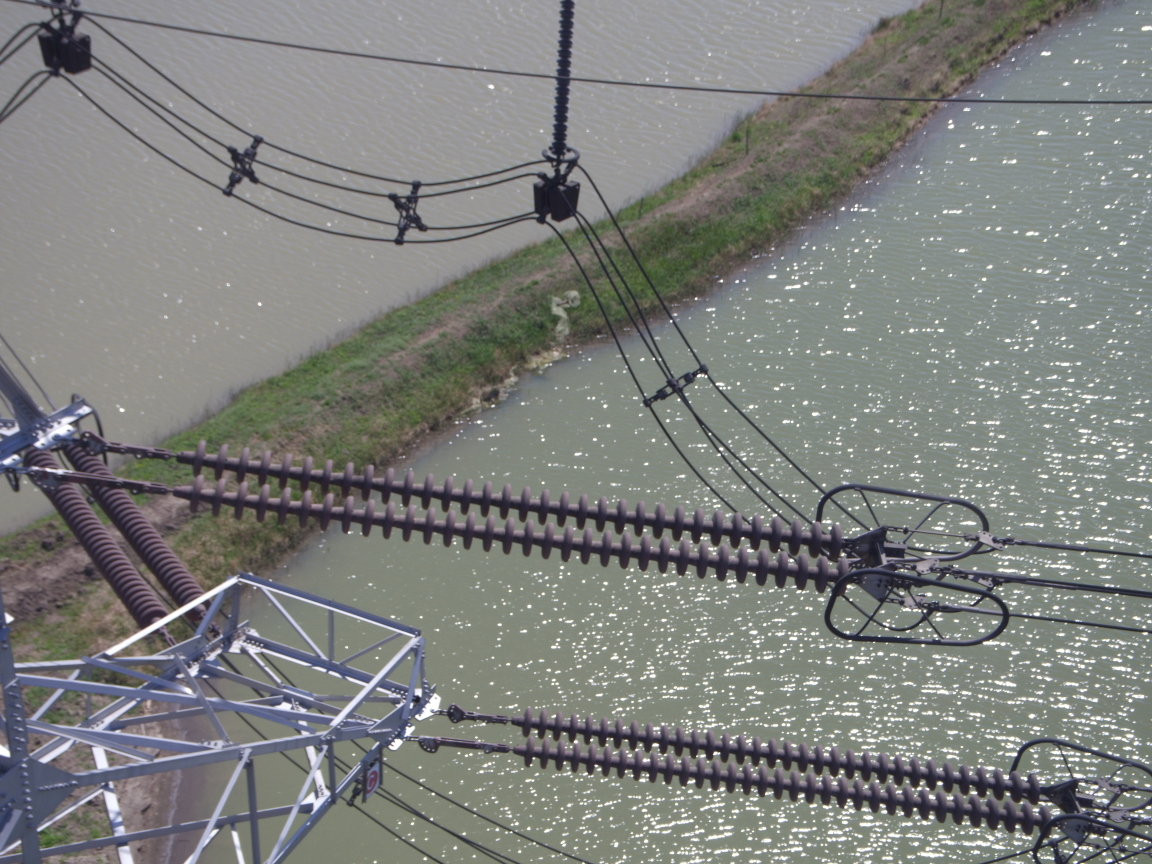insulator: (140, 438, 870, 595), (488, 706, 1065, 838)
